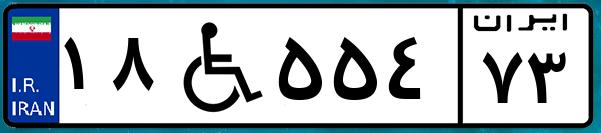1: (57, 26, 110, 100)
3: (525, 38, 570, 115)
4: (385, 28, 445, 110)
5: (270, 28, 330, 110), (330, 28, 385, 110)
7: (475, 38, 525, 113)
8: (110, 28, 158, 98)
ژ (معلولین و جانبازان): (158, 12, 270, 120)
